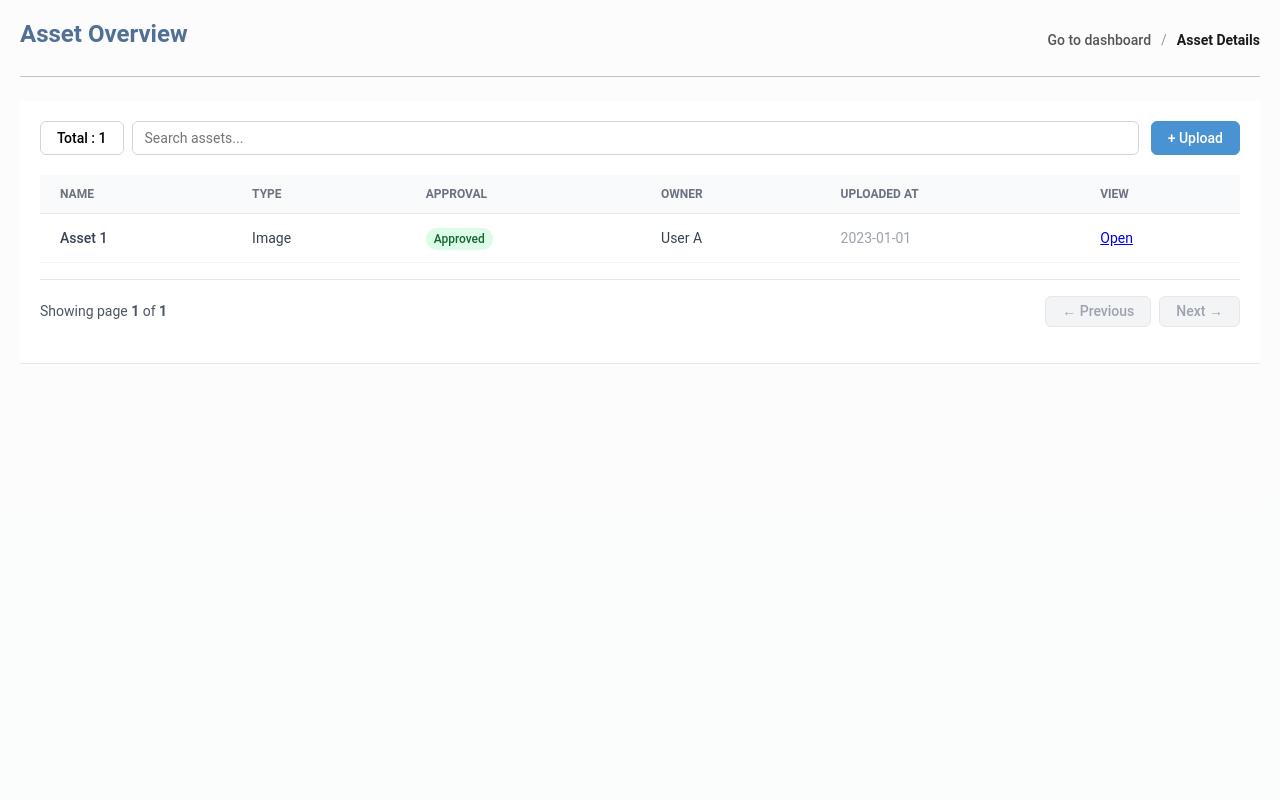
Test: AssetTable Component › opens the upload modal when clicking the upload button
What coordinates should you click on to do the following:
click the button "+ Upload"
I would click on:
 (1195, 138)
Its box is [1151,121,1240,155].
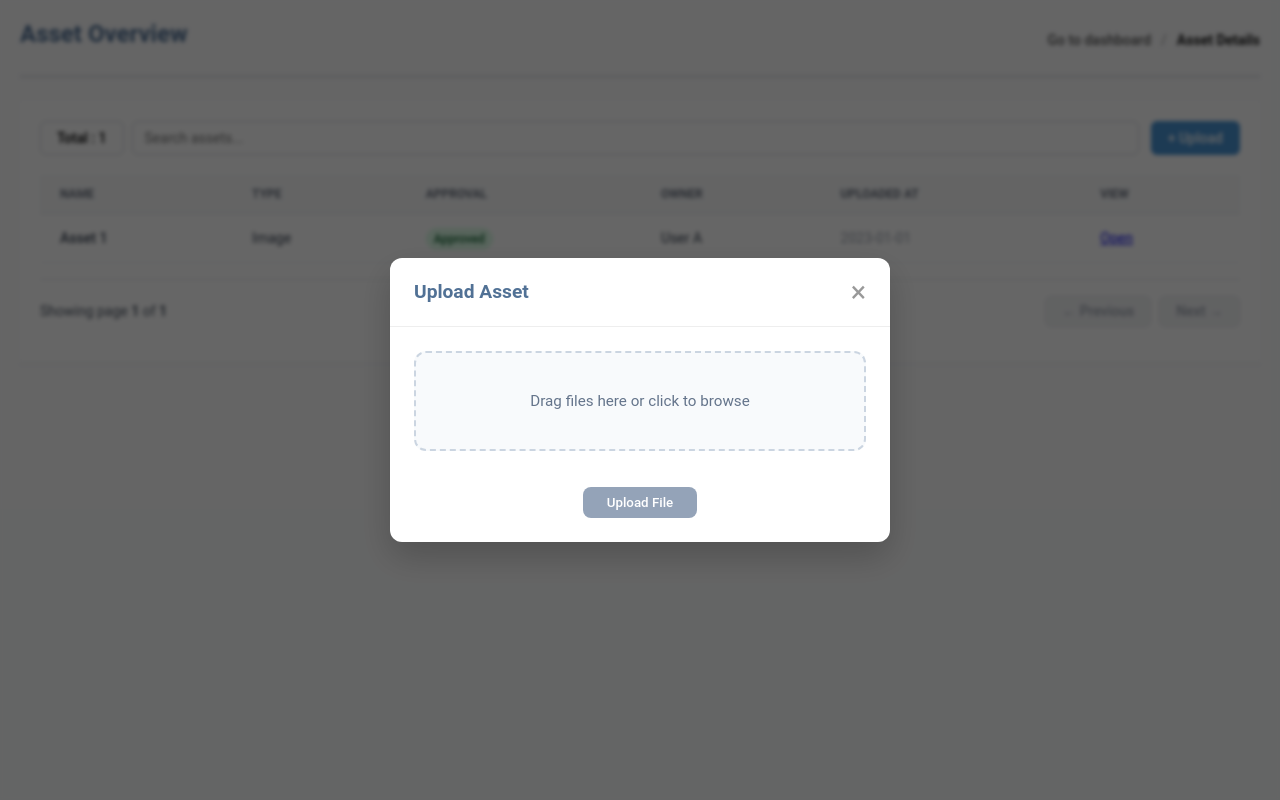
Check: the heading "Upload Asset" is shown, box [414,280,529,304]
Check: the text "Drag files here or click to browse" is shown, box [530,392,750,410]
